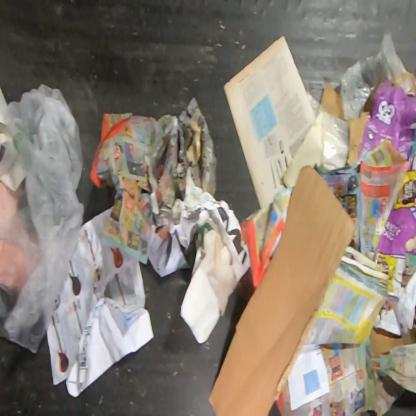cardboard: (206, 163, 357, 416), (346, 78, 416, 262), (180, 228, 239, 344), (368, 307, 415, 359), (320, 80, 343, 119)
soft_plastic: (0, 82, 86, 356), (340, 30, 415, 122), (305, 88, 350, 169)
